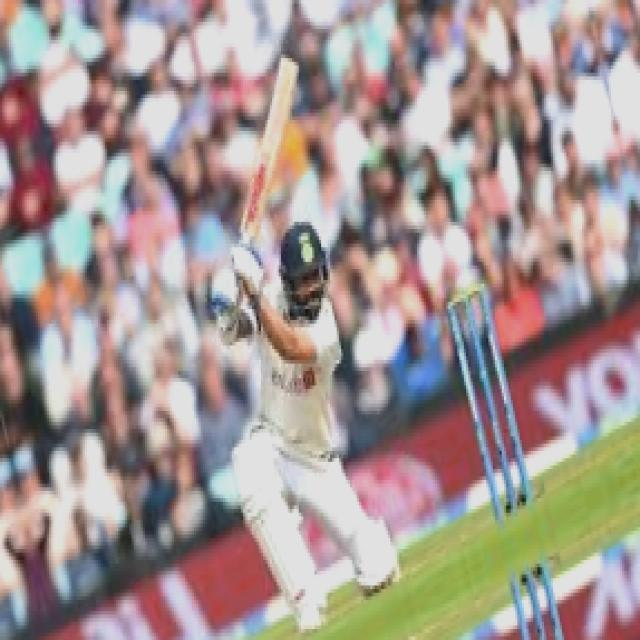bat: (234, 56, 305, 250)
toe: (279, 49, 302, 75)
